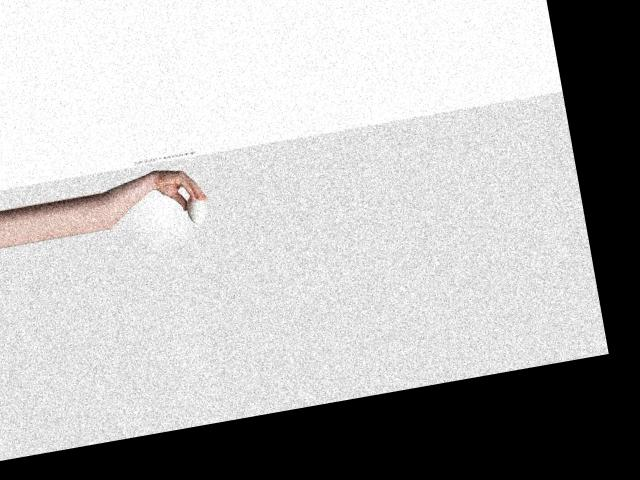egg: (184, 193, 208, 226)
